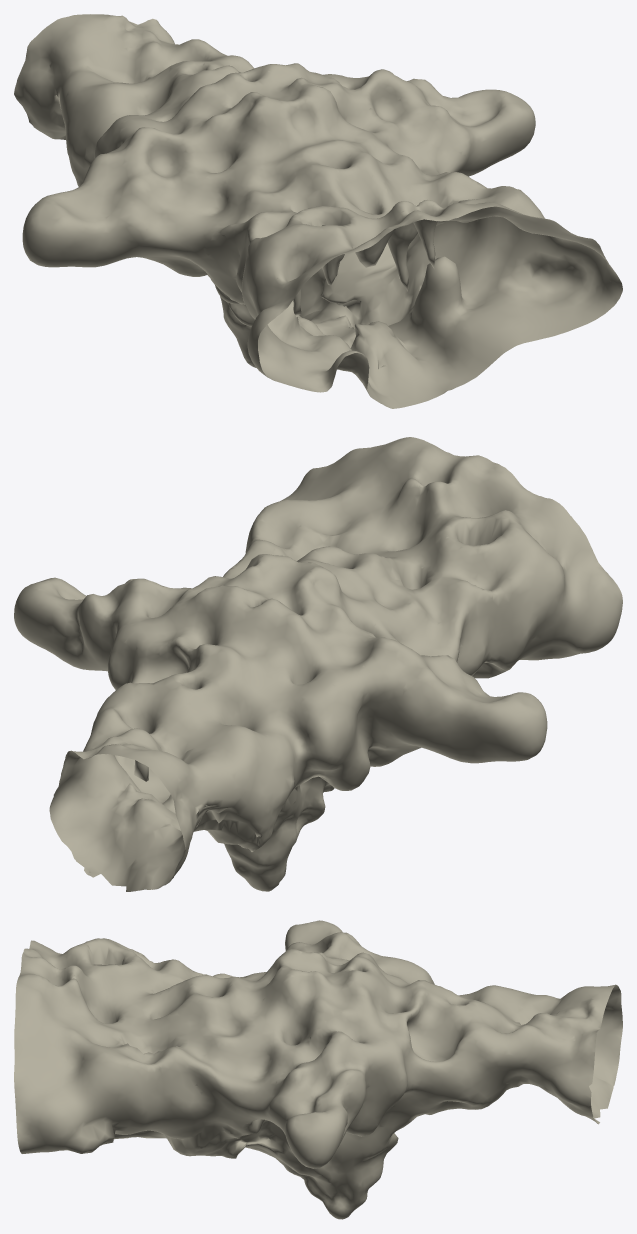
File: cave_mono_short_1.dae
3 views of the same model, one above another, from view 1: azimuth 30°, elevation 25°; view 2: azimuth 150°, elevation 25°; view 3: azimuth 270°, elevation 25° (orthographic). The views are drawn at different scales.
Parts seen in each view (by area): view 1: Cave_-_02; view 2: Cave_-_02; view 3: Cave_-_02.
Boxes of the visible parts, box(x1,y1,x2,y2) form: Cave_-_02: box(14, 14, 622, 408); Cave_-_02: box(14, 437, 622, 891); Cave_-_02: box(14, 920, 622, 1219).
Bounding box in the file's own units: 5.51 × 6.63 × 3.08.
